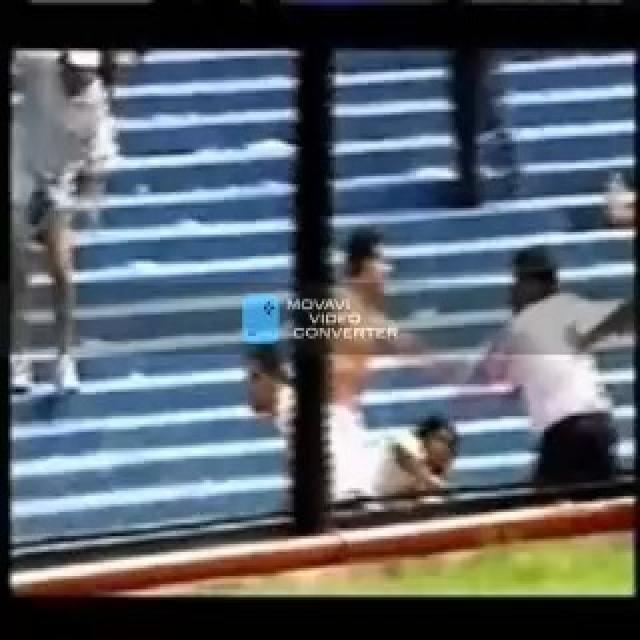non-voilence: (0, 0, 638, 592), (466, 242, 634, 498), (16, 48, 122, 395), (368, 411, 460, 509)
